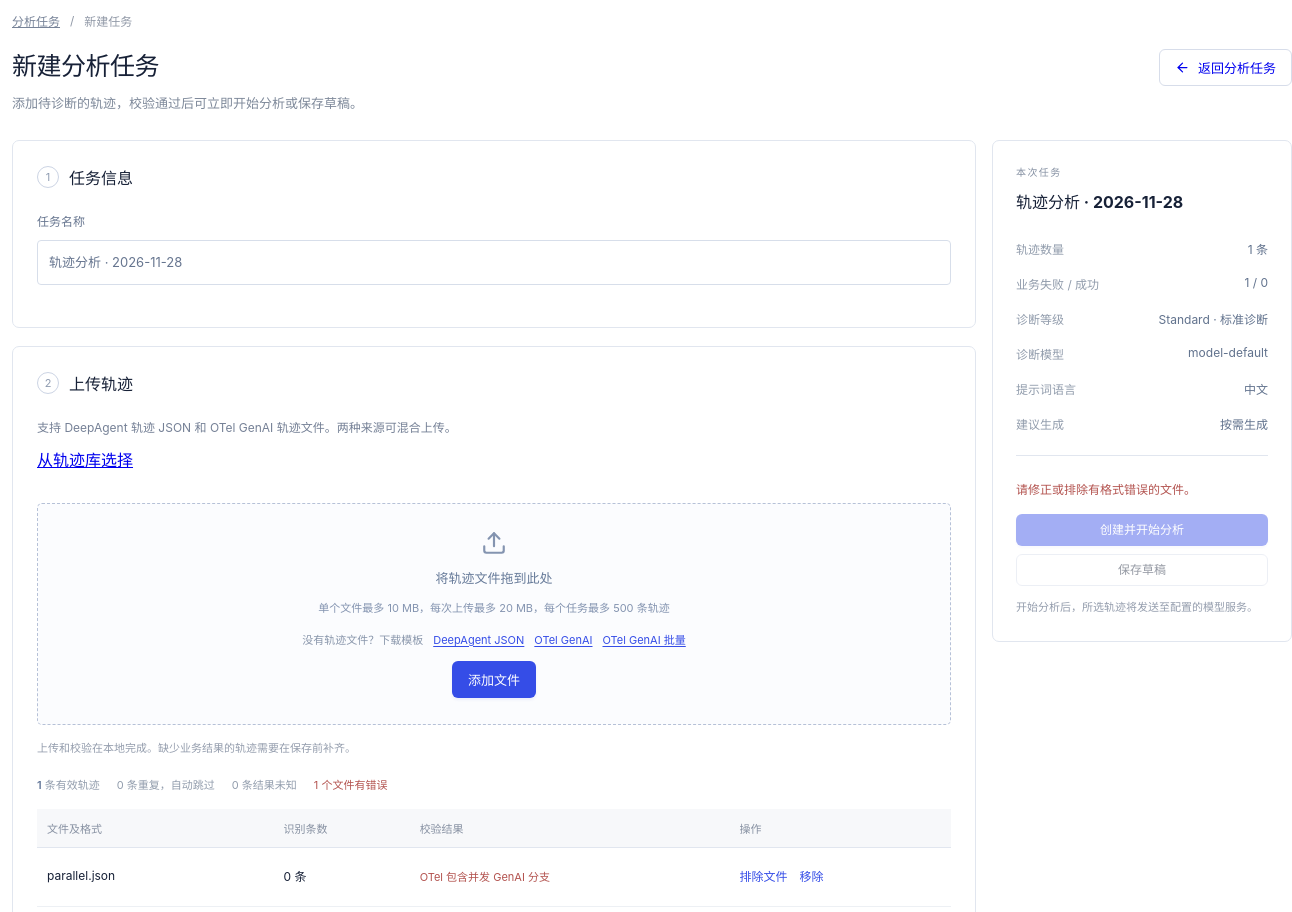
Test: identifies an unsupported file and lets the user exclude it before saving
Earlier steps of the test are not shown.
Expected: the text "OTel 包含并发 GenAI 分支" is shown, [420, 870, 550, 884]
Expected: the button "保存草稿" is disabled, [1016, 554, 1268, 586]
What coordinates should you click on to do the following:
click the button with aria-label "排除文件 parallel.json"
I would click on:
 (764, 877)
Its box is [740, 861, 788, 893].
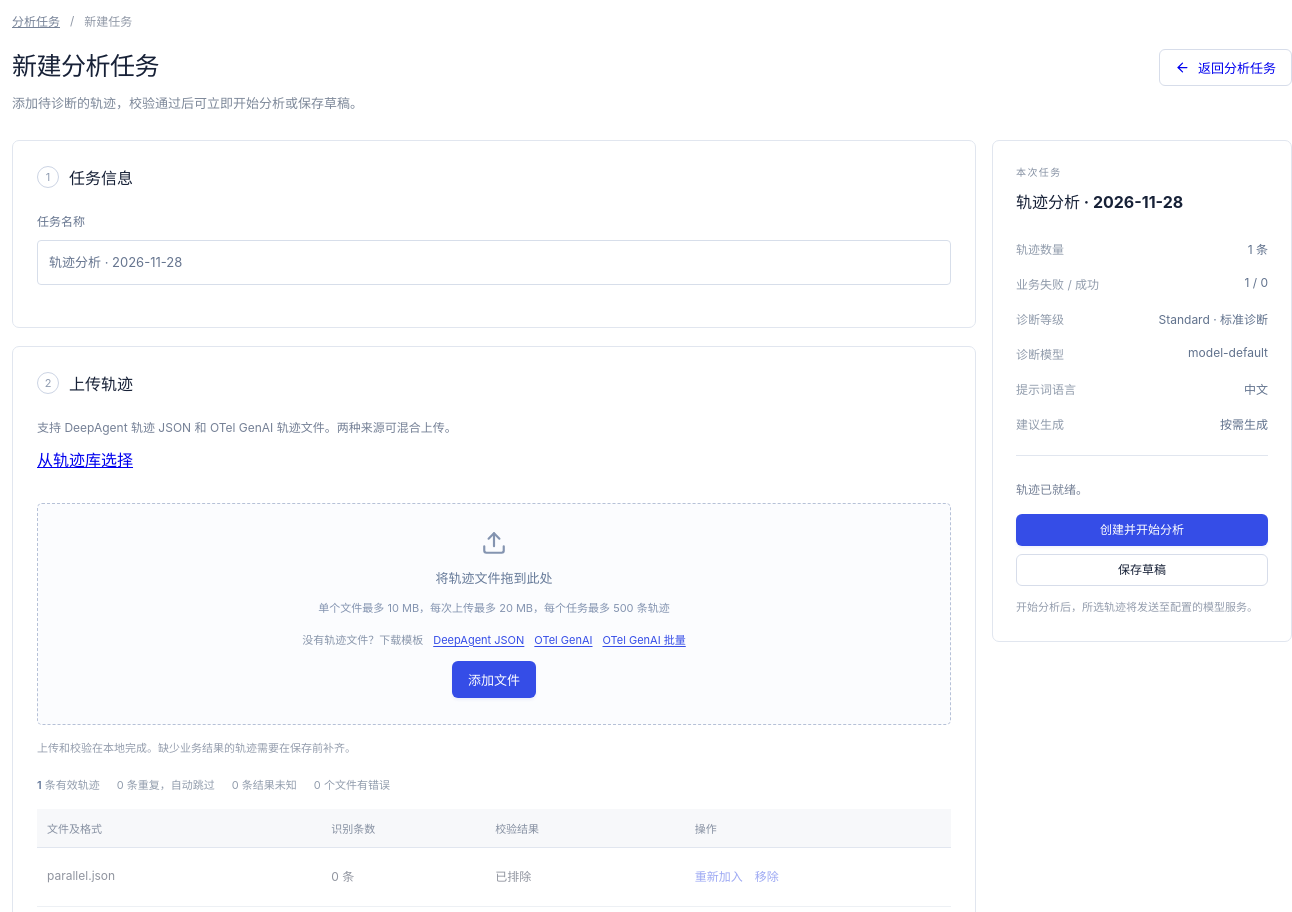
Now the button "保存草稿" is enabled, box [1016, 554, 1268, 586]
